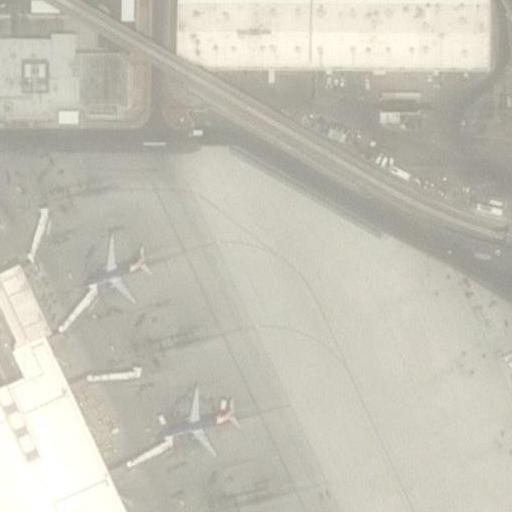Aircraft: (73, 241, 158, 304), (157, 389, 240, 451)
